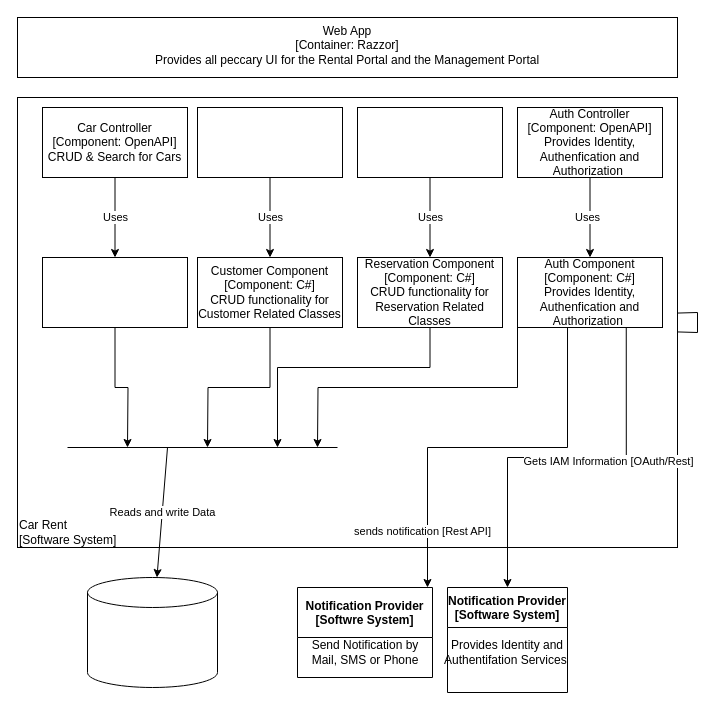
This 716x710 diagram has some shape labels left out. Each missing label, with the centre of its shape:
"Car Component [Component: C#] CRUD functionality for Car Related Classes" goes at [115,292].
"Customer Controller [Component: OpenAPI] CRUD & Search for Customers" goes at [269,142].
"Database [Container: SQL DB] Stores all Data for the Rental System" goes at [152,632].
"Reservation Controller [Component: OpenAPI] CRUD & Search for Customers" goes at [429,142].
